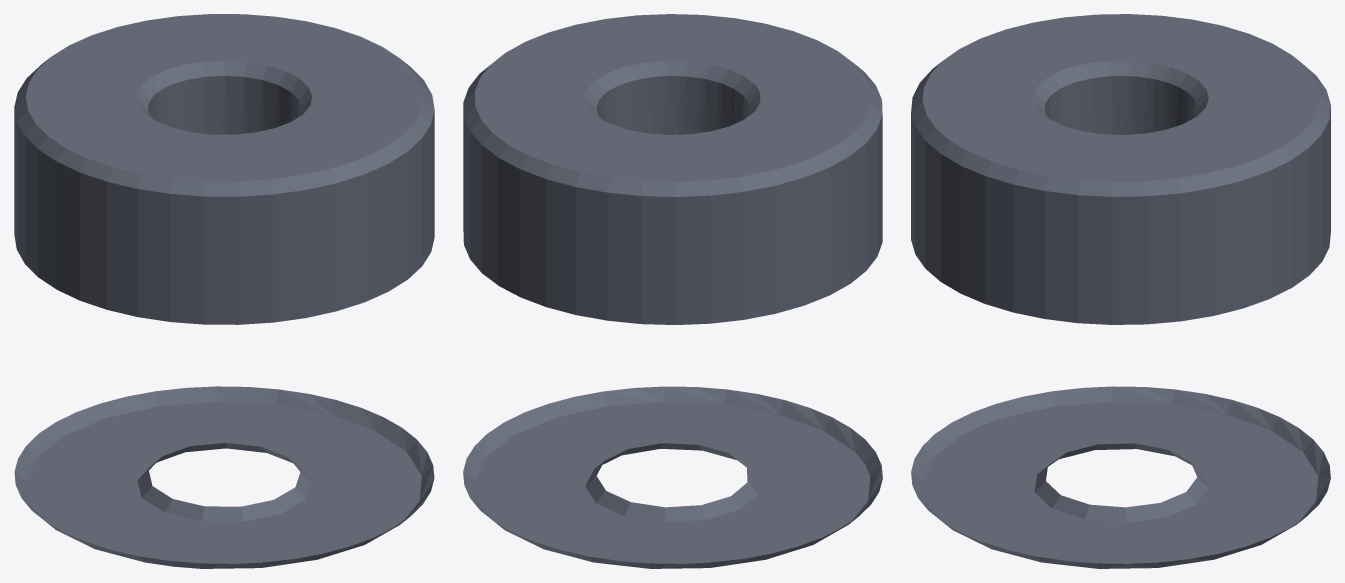
File: solo_upper_leg_left_side_8.obj
3 renders of one model, left to right at view 1: azimuth 30°, elevation 25°; view 2: azimuth 150°, elevation 25°; view 3: azimuth 270°, elevation 25°, orthographic.
Bounding box in the file's own units: 0.011 × 0.0112 × 0.011.
